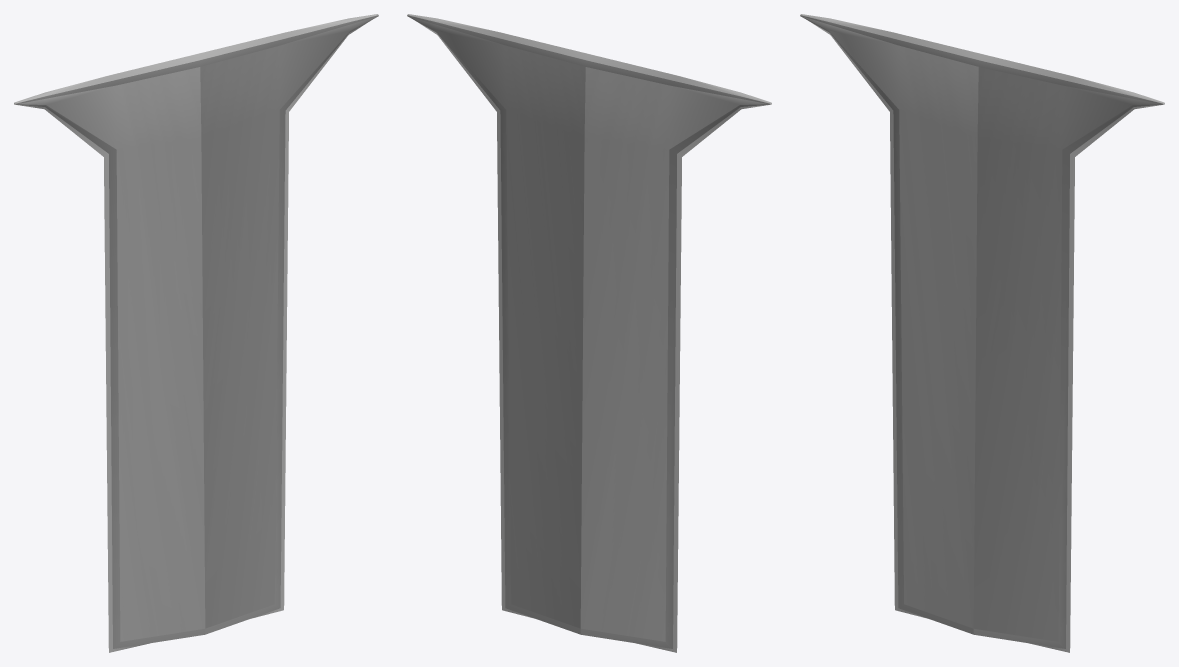
File: stone_blade (11).glb
3 views of the same model, side by side, from view 1: azimuth 30°, elevation 25°; view 2: azimuth 150°, elevation 25°; view 3: azimuth 330°, elevation 25° (orthographic).
Parts seen in each view (by area): view 1: stone_blade_unscratched.031; view 2: stone_blade_unscratched.031; view 3: stone_blade_unscratched.031.
Part boxes in pixels (<box>): stone_blade_unscratched.031: <box>14,14,378,652</box>; stone_blade_unscratched.031: <box>407,14,771,652</box>; stone_blade_unscratched.031: <box>800,14,1164,652</box>.
Bounding box in the file's own units: 7.54 × 11.44 × 0.6326.
1 material, 1 textured.
